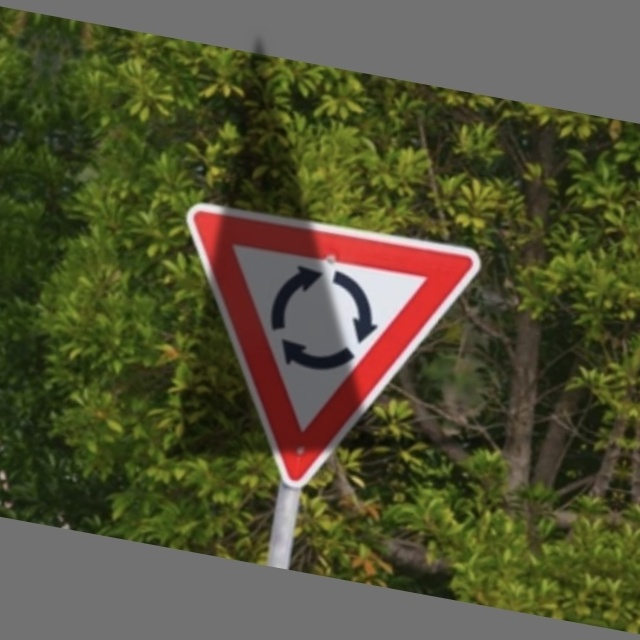Round_About: (147, 189, 482, 508)
